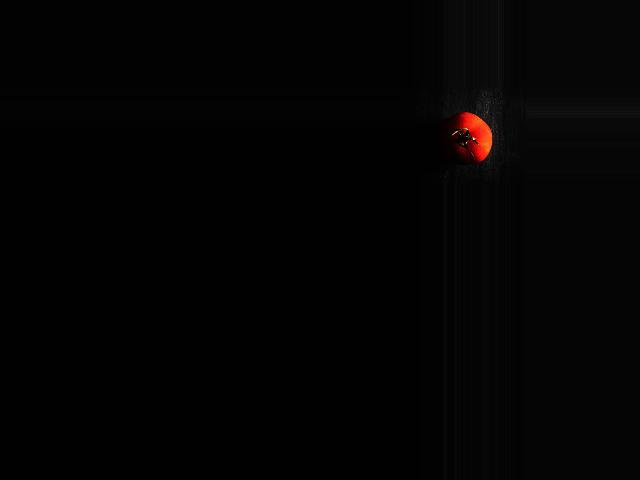tomato: (439, 112, 492, 164)
